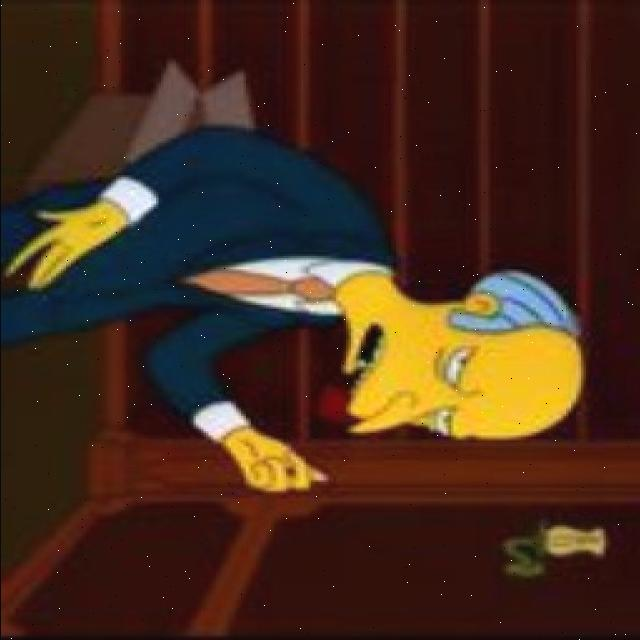Charles Montgomery Burns: (322, 266, 584, 442)
